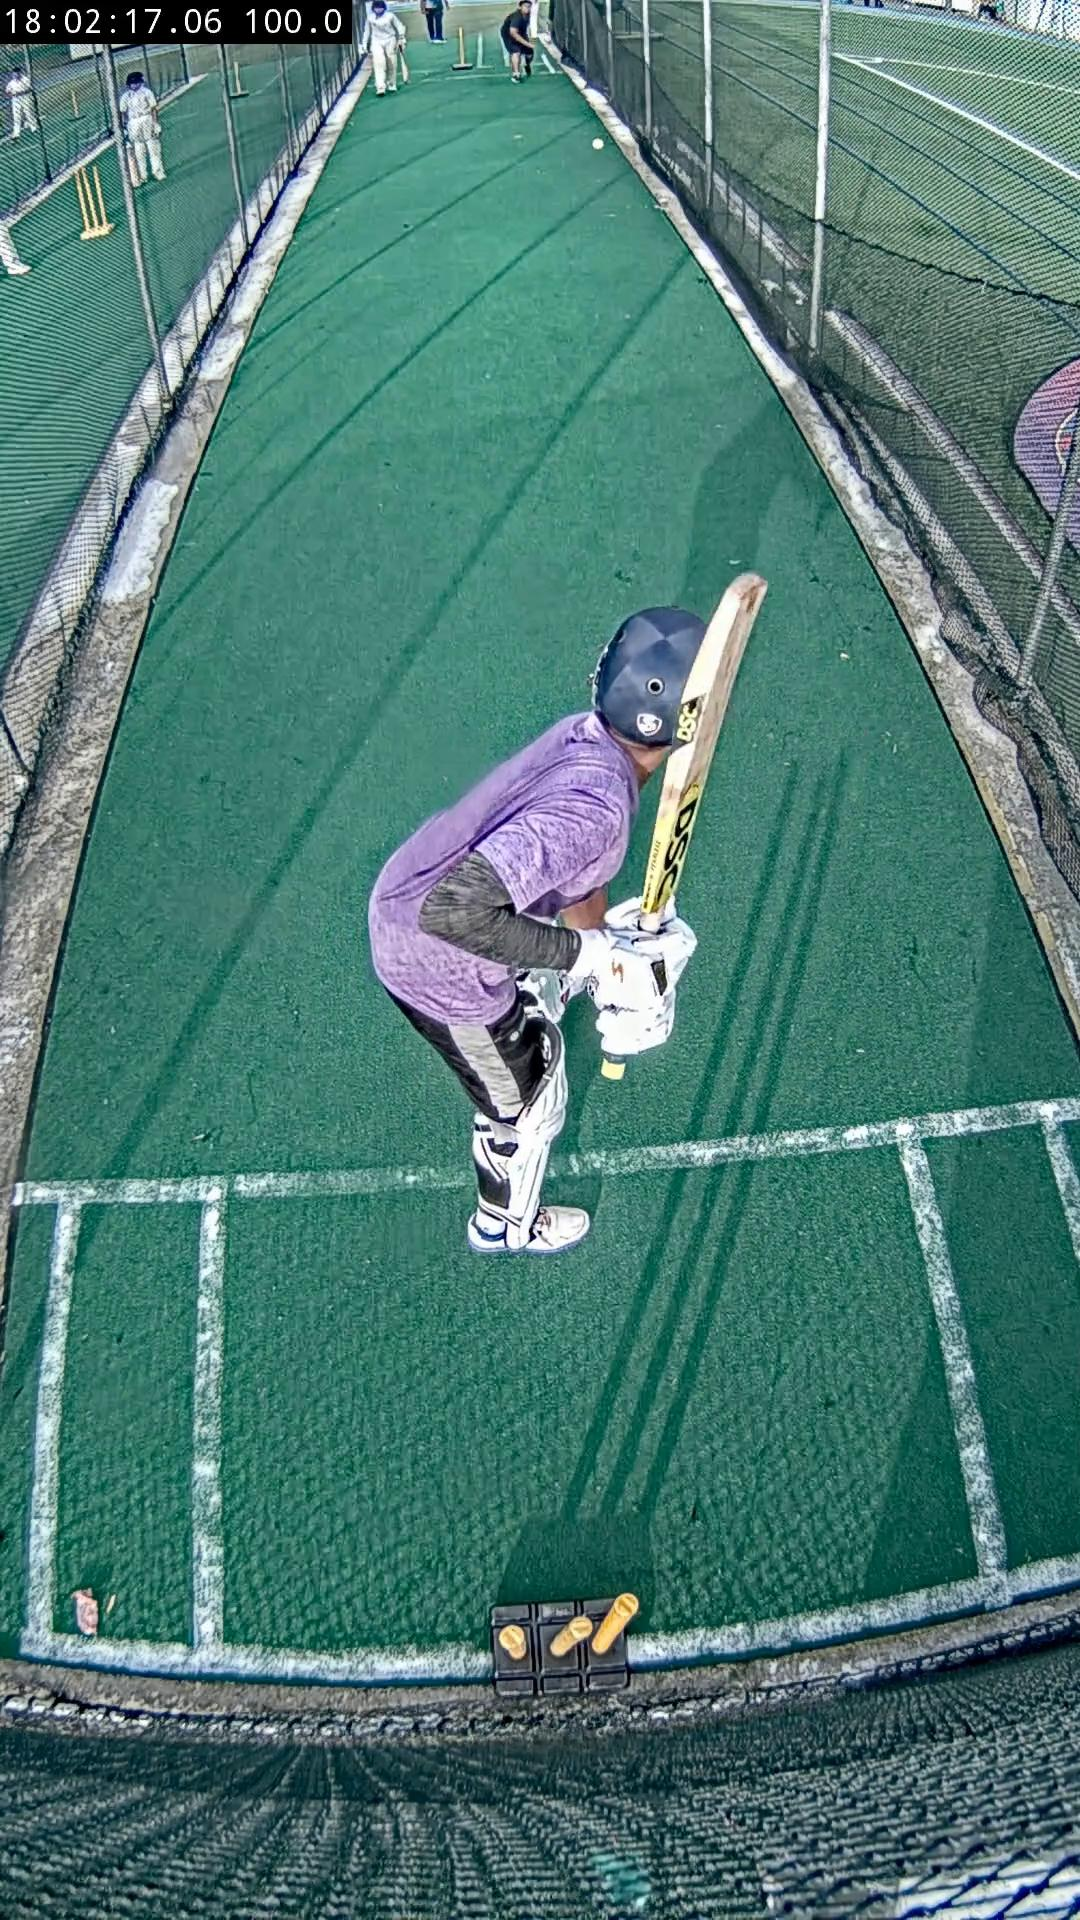ball: (592, 138, 604, 150)
bat: (641, 574, 769, 930)
gloves: (570, 915, 698, 1056)
helmet: (592, 608, 705, 746)
pads: (492, 1023, 566, 1230)
stumps: (492, 1594, 637, 1698)
